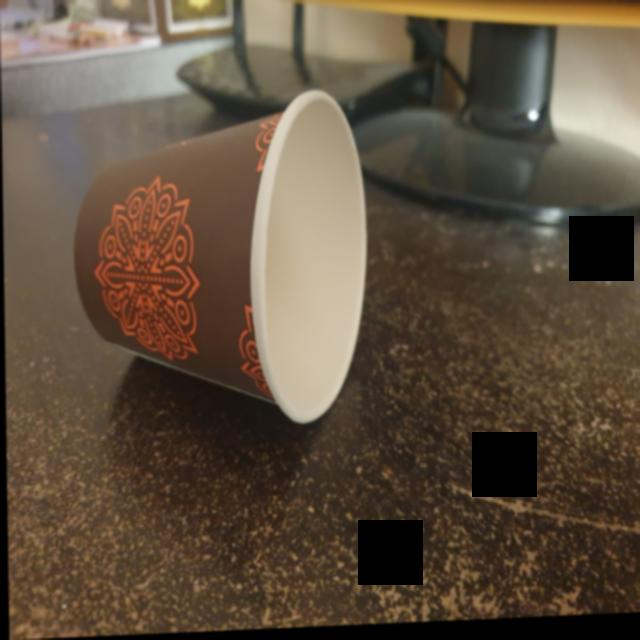cups: (66, 89, 371, 442)
